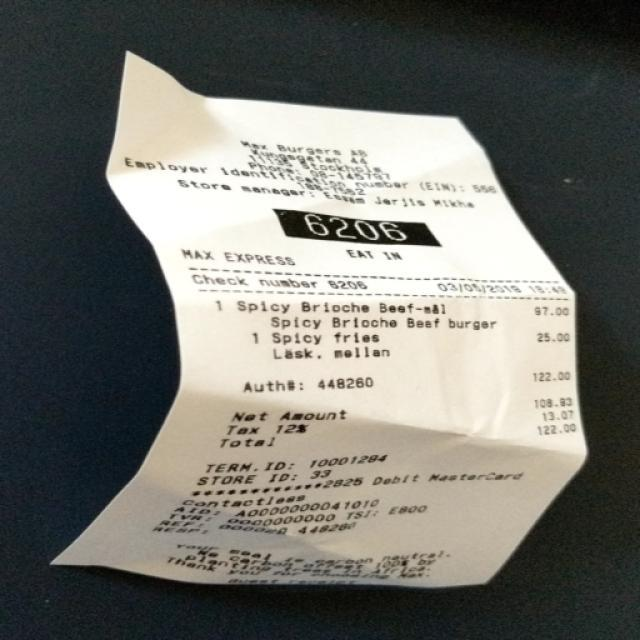document: (54, 52, 586, 588)
